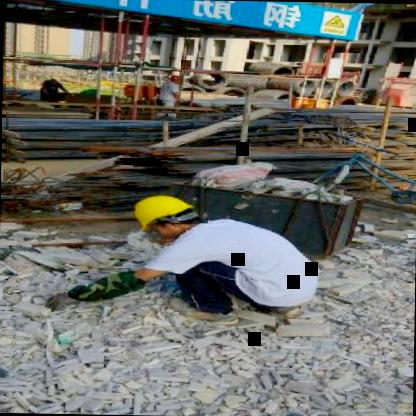helmet: (125, 189, 206, 242)
